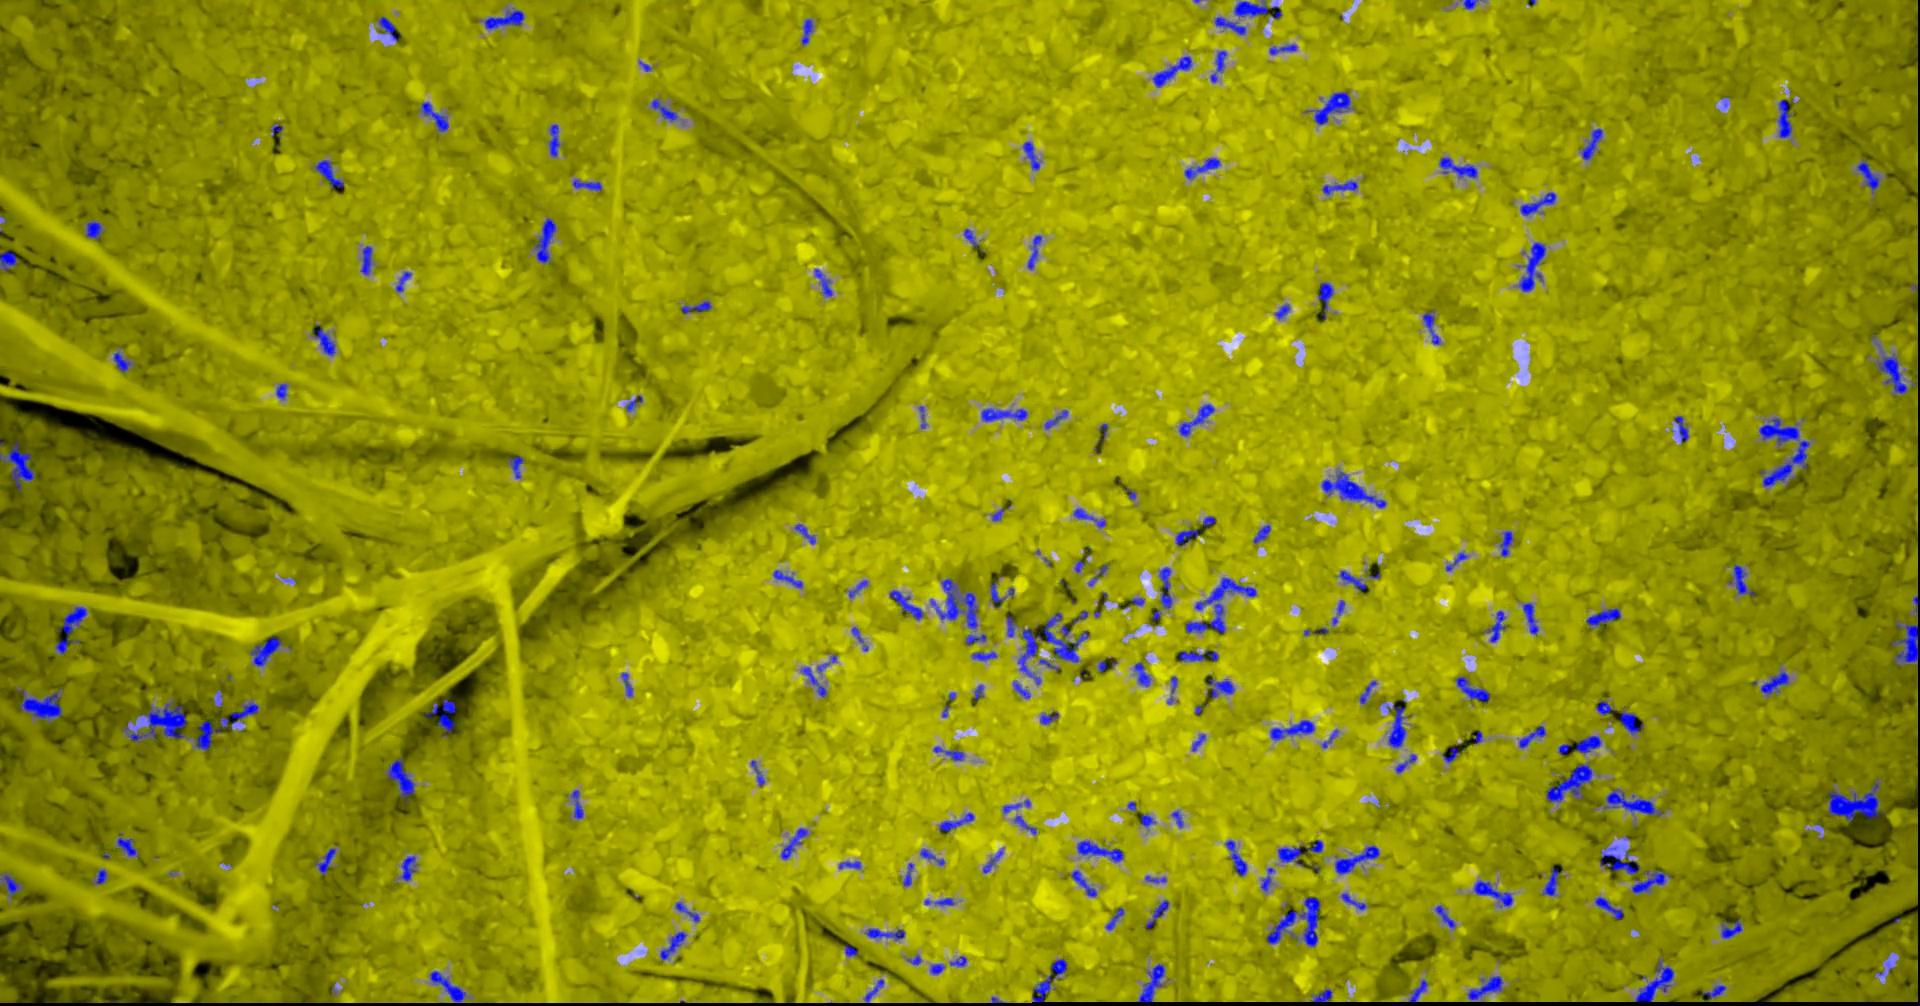ant: (1186, 577, 1258, 633), (197, 702, 260, 749), (1269, 895, 1321, 946), (124, 700, 188, 741), (931, 578, 979, 627), (1323, 471, 1387, 507), (1829, 781, 1884, 821), (1, 439, 37, 492), (1547, 763, 1594, 801), (1637, 958, 1675, 1002), (1606, 788, 1663, 815), (1032, 958, 1068, 1002), (1305, 91, 1352, 124), (19, 688, 63, 723), (57, 606, 88, 654), (1519, 243, 1547, 291), (1336, 845, 1382, 874), (1892, 620, 1920, 666), (389, 757, 417, 803), (1879, 354, 1909, 396), (1180, 403, 1217, 436), (1154, 56, 1192, 86), (427, 699, 457, 735), (430, 970, 467, 1001), (1601, 846, 1641, 874), (1476, 879, 1514, 907), (1078, 840, 1125, 861), (1140, 963, 1166, 1002), (891, 589, 924, 619), (1271, 719, 1316, 741), (1633, 869, 1672, 893), (536, 218, 557, 262), (251, 636, 283, 666), (1730, 564, 1757, 596), (1457, 676, 1491, 701), (316, 159, 345, 188), (1388, 702, 1407, 747), (782, 827, 809, 859), (1236, 0, 1283, 18), (1523, 191, 1557, 215), (422, 102, 450, 131), (486, 9, 526, 29), (1469, 976, 1503, 998), (1186, 158, 1222, 179), (1227, 840, 1248, 875), (1858, 159, 1881, 192), (1440, 158, 1479, 177), (662, 931, 688, 959), (804, 666, 828, 696), (1596, 895, 1625, 920), (314, 324, 337, 354), (940, 812, 975, 831), (1763, 671, 1790, 695), (1147, 899, 1170, 929), (1423, 310, 1443, 344), (1779, 98, 1796, 137), (1488, 610, 1509, 641), (1073, 870, 1098, 895), (983, 406, 1029, 420), (1583, 128, 1604, 159), (653, 98, 679, 121), (1587, 607, 1622, 625), (1076, 508, 1107, 527), (1208, 677, 1236, 699), (1544, 866, 1564, 895), (1161, 567, 1175, 608), (378, 17, 403, 41), (315, 847, 337, 874), (1319, 282, 1335, 319), (1622, 710, 1644, 734), (1521, 725, 1547, 747), (1211, 50, 1228, 83), (1524, 602, 1540, 635), (1217, 17, 1247, 34), (677, 901, 701, 922), (775, 569, 804, 587), (1341, 570, 1368, 589), (1023, 141, 1041, 169), (1324, 180, 1359, 194), (1029, 235, 1043, 269), (118, 836, 140, 857), (1046, 409, 1069, 429), (1178, 649, 1219, 661), (984, 850, 1004, 873), (817, 268, 833, 296), (1279, 846, 1303, 865), (1, 873, 20, 897), (1577, 735, 1603, 753), (866, 929, 905, 940), (935, 746, 966, 760), (1396, 754, 1418, 774), (1437, 904, 1457, 927), (866, 979, 885, 1002), (401, 855, 418, 880), (796, 523, 817, 544), (1090, 564, 1109, 586), (1016, 815, 1037, 835), (1722, 918, 1743, 937), (571, 789, 585, 818), (1411, 979, 1429, 1002), (990, 582, 1007, 606), (853, 626, 870, 650), (1135, 662, 1152, 686), (1343, 893, 1368, 909), (682, 300, 712, 312), (1448, 551, 1468, 570), (921, 848, 946, 864), (1107, 907, 1125, 929), (550, 123, 561, 156), (1177, 528, 1200, 545), (1361, 680, 1378, 702), (1676, 415, 1690, 442), (1501, 530, 1515, 556), (752, 760, 766, 786), (1, 250, 19, 271), (818, 654, 838, 672), (116, 351, 132, 372), (1004, 799, 1032, 812), (509, 455, 524, 478), (1015, 680, 1032, 699), (574, 179, 603, 191), (362, 245, 373, 274), (1444, 747, 1465, 762), (1333, 600, 1346, 625), (1262, 868, 1276, 890), (1255, 525, 1272, 542), (850, 580, 869, 597), (397, 271, 413, 291), (1703, 984, 1727, 997), (803, 18, 814, 44), (1271, 43, 1298, 55), (1312, 988, 1333, 1002), (88, 220, 103, 239), (965, 227, 980, 246), (1597, 700, 1617, 715), (904, 862, 916, 887), (627, 395, 644, 412), (1192, 733, 1208, 749), (623, 672, 634, 696), (1041, 711, 1060, 724), (968, 633, 988, 644), (926, 897, 956, 904), (973, 652, 998, 661), (1008, 615, 1018, 636), (1276, 304, 1291, 318), (844, 942, 858, 956), (1142, 813, 1157, 826), (1309, 840, 1324, 852), (1173, 810, 1185, 827), (951, 955, 968, 967), (278, 384, 290, 399), (931, 963, 946, 974), (1464, 0, 1483, 9), (841, 861, 862, 869), (97, 869, 108, 883)
